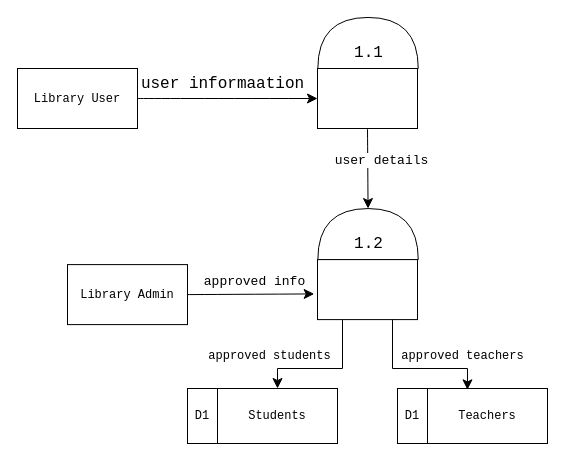
Image size: 565x462. Some labels were removed from this diagram. Each missing label, with the box of its shape:
Approval: (316, 259, 418, 320)
Fill out registration form: (316, 68, 418, 128)
